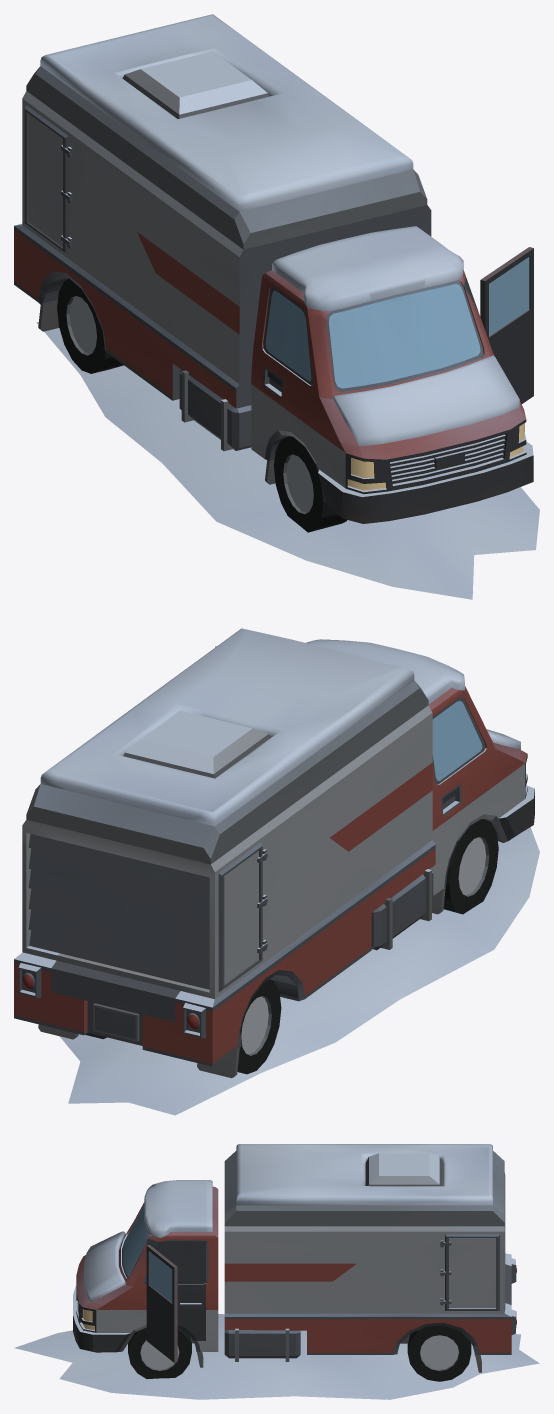
Rendered from box_truck_doors.glb.
The picture shows the model from 3 angles, top to bottom: view 1: azimuth 30°, elevation 25°; view 2: azimuth 150°, elevation 25°; view 3: azimuth 270°, elevation 25°; orthographic projection. The views are drawn at different scales.
Visible parts, largest first — view 1: Body, Glass; view 2: Body, Glass; view 3: Body, Glass.
Part boxes in pixels (x1,y1,x2,y2): Body: (14,14,539,599); Glass: (265,257,529,388); Body: (14,628,539,1115); Glass: (432,701,482,780); Body: (14,1144,539,1399); Glass: (123,1204,172,1302).
Size of the model in its own units: 3.6 by 3.43 by 8.53.
